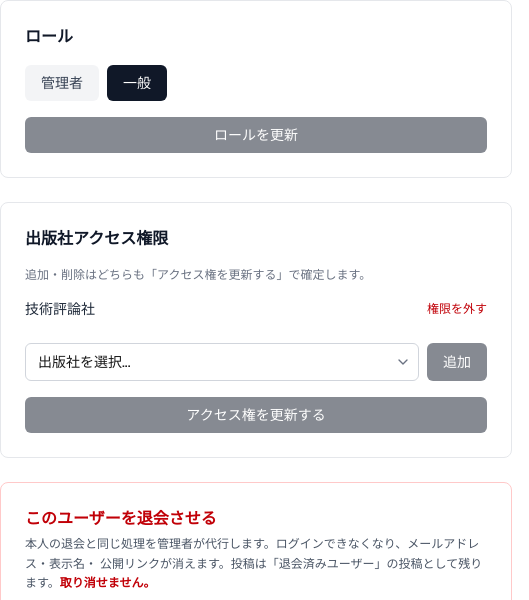
Test case: AdminUserEditor › 出版社アクセスの追加 › 「追加」を押しただけでは送らず、追加予定として並ぶ
Select "オライリー" in the dropdown at {"x": 222, "y": 362}, box [25,343,419,381]
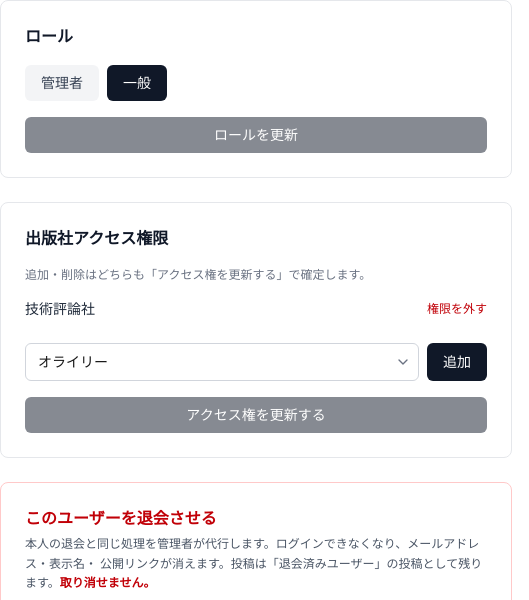
Click the button "追加".
click(457, 362)  # box [427,343,487,381]
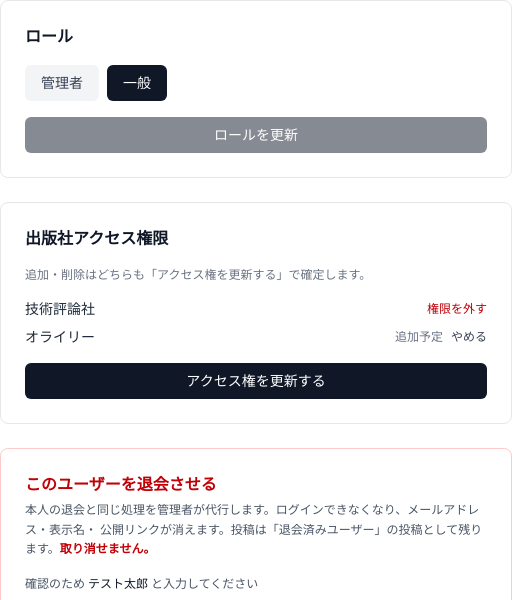
Now the text "追加予定" is shown, box [395,329,443,345]
